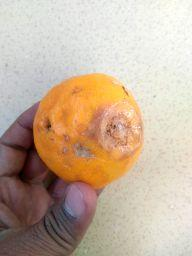Unripe: (33, 70, 142, 188)
